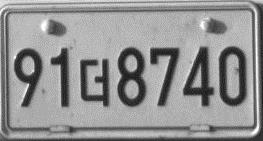0: (218, 46, 247, 106)
1: (44, 45, 80, 108)
4: (180, 44, 215, 108)
7: (147, 45, 182, 108)
8: (115, 45, 147, 108)
9: (11, 47, 43, 110)
더: (78, 56, 111, 108)
